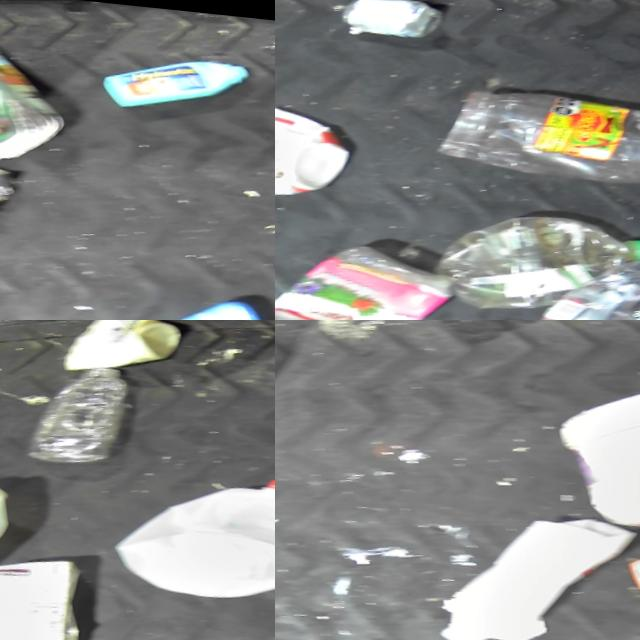can: (332, 0, 451, 43)
milk_jug: (433, 491, 640, 640), (108, 451, 275, 614), (0, 475, 27, 599)
plastic_bottle: (430, 179, 640, 320), (20, 355, 142, 471), (521, 217, 640, 320)
